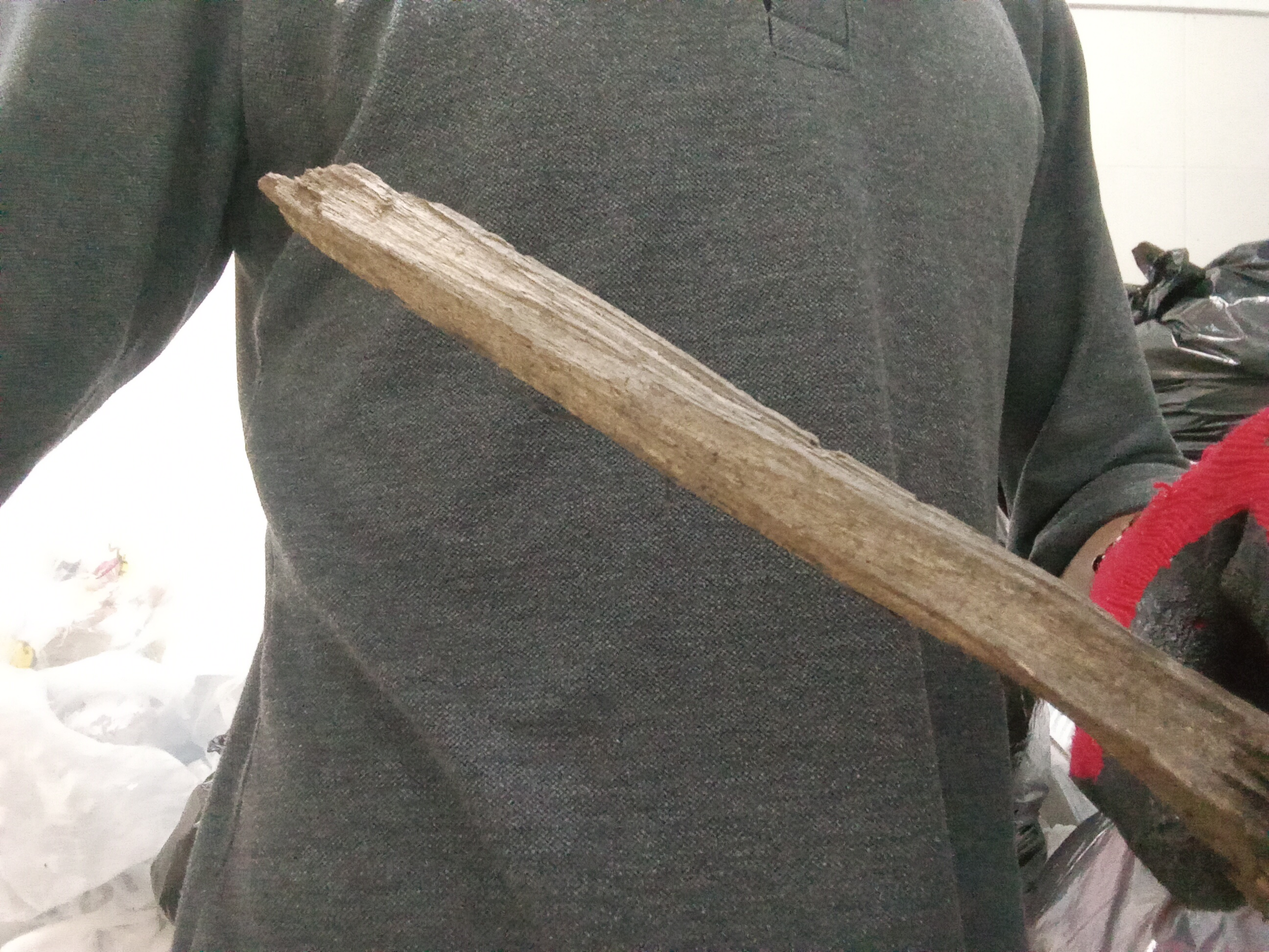Ordinario: (259, 162, 1269, 920)
